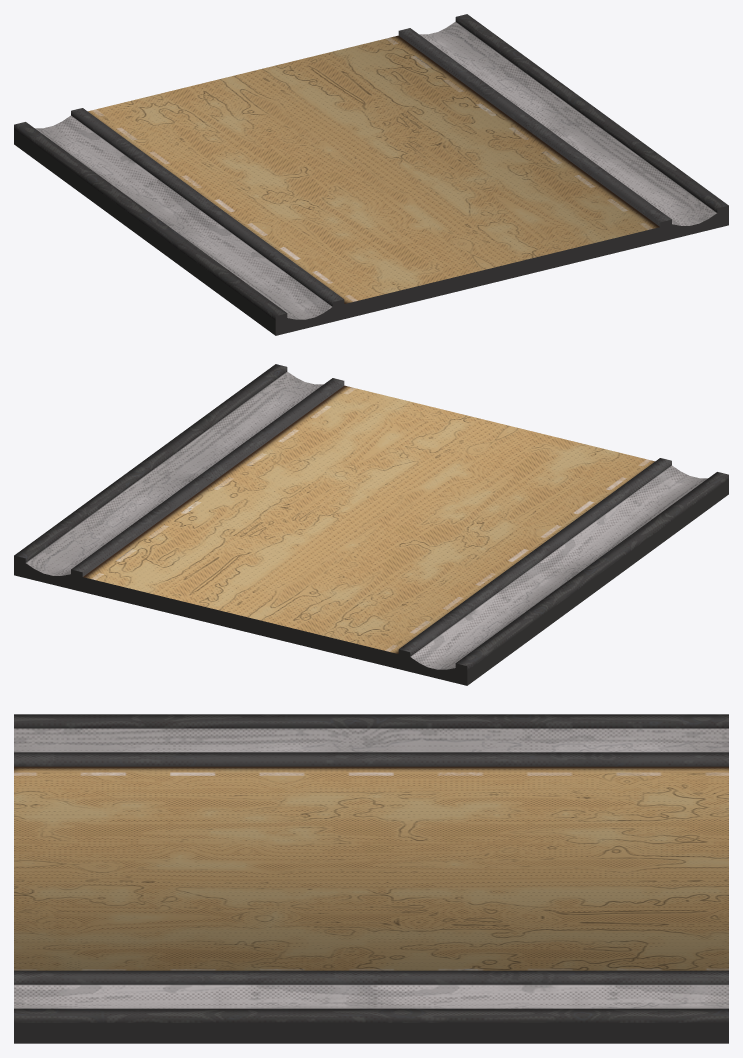
File: SM_BLane.fbx
The picture shows the model from 3 angles, top to bottom: view 1: azimuth 30°, elevation 25°; view 2: azimuth 150°, elevation 25°; view 3: azimuth 270°, elevation 25°; orthographic projection. The views are drawn at different scales.
Visible parts, largest first — view 1: SM_BLane; view 2: SM_BLane; view 3: SM_BLane.
Boxes of the visible parts, x1,y1,x2,y2 form: SM_BLane: [14, 14, 728, 335]; SM_BLane: [14, 364, 728, 685]; SM_BLane: [14, 714, 728, 1043].
Bounding box in the file's own units: 200 × 8.32 × 200.
